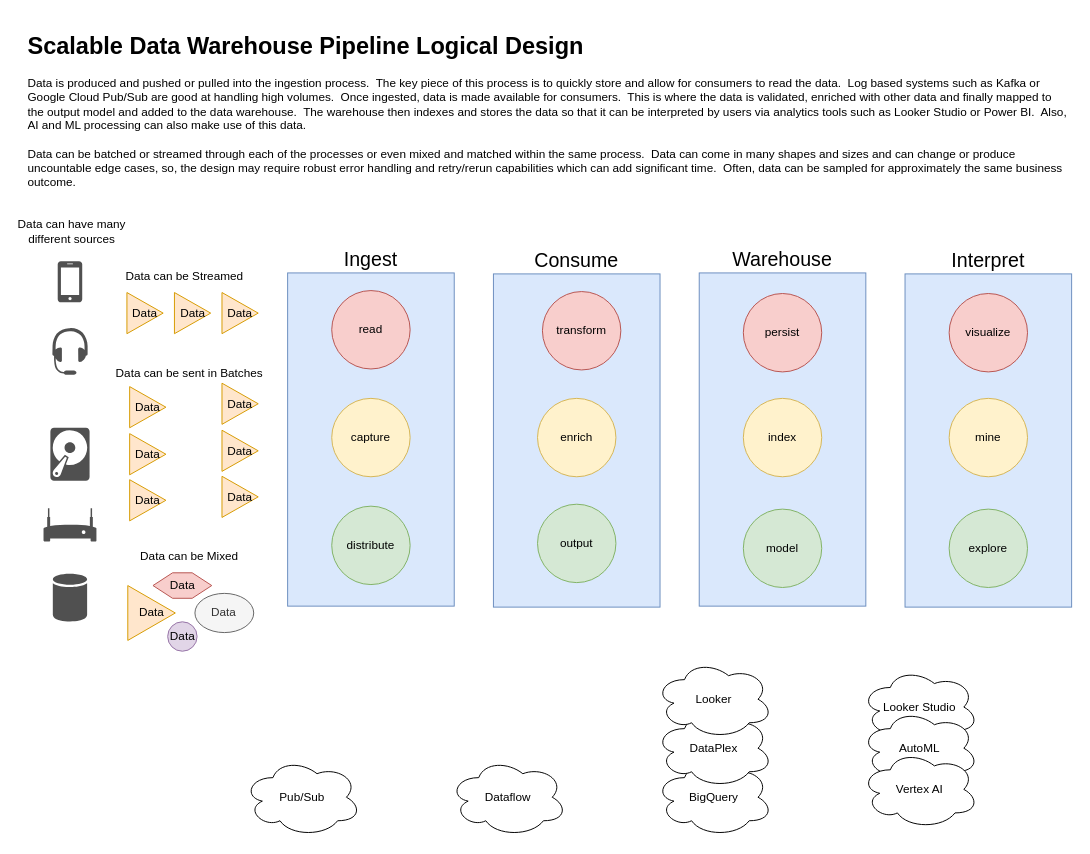
Some shapes in this 1090 by 854 pixel diagram are drawn without their labels. The shapes that lost their labels are listed below. From the top down, each one's centre as x and y in pixels, then its label:
At (69,281): "App".
At (69,350): "Human Interface Device".
At (69,453): "Cron".
At (69,524): "IoT Device".
At (69,597): "Database".
